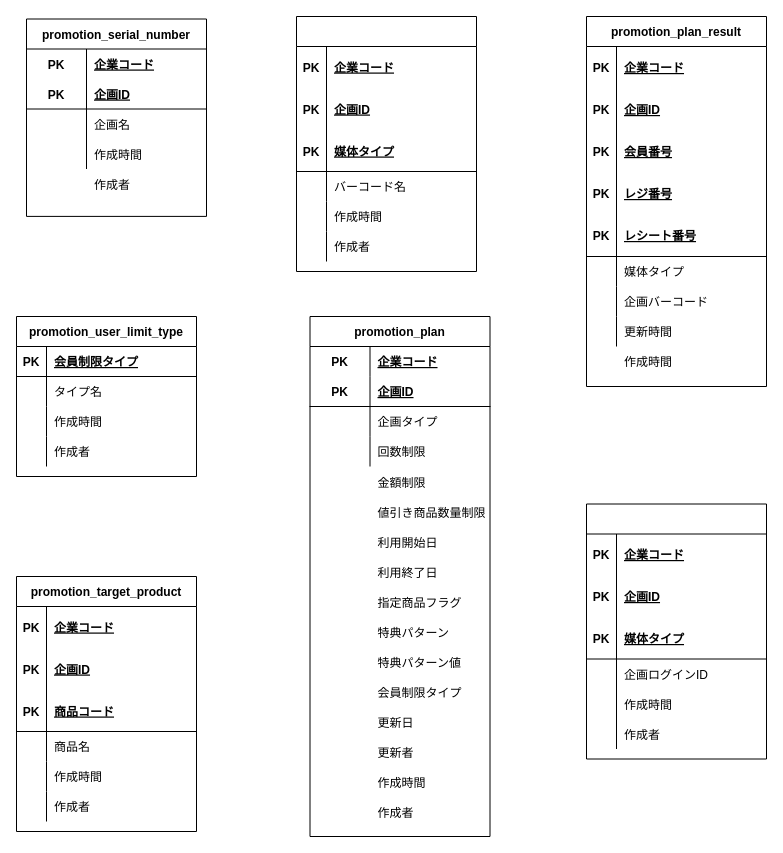
This 783x853 diagram has some shape labels left out. Each missing label, with the box of its shape:
promotion_login_plan_id: (586, 503, 766, 759)
promotion_plan_barcode: (296, 16, 476, 272)
